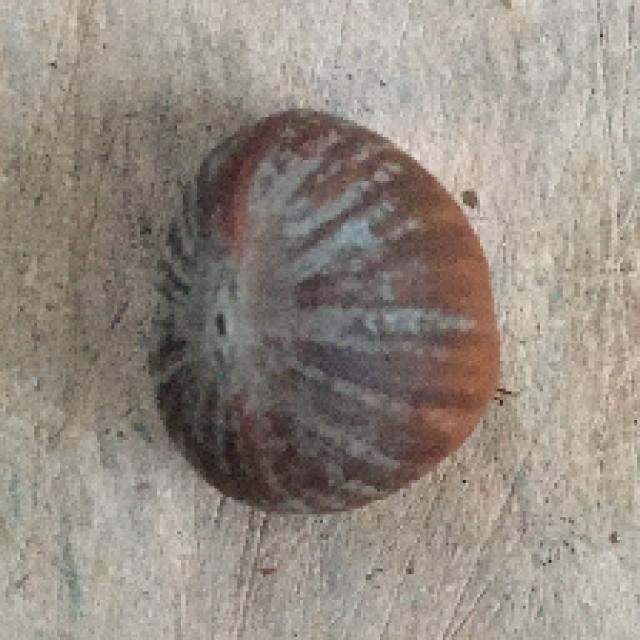damagedHazelnut: (146, 103, 507, 535)
